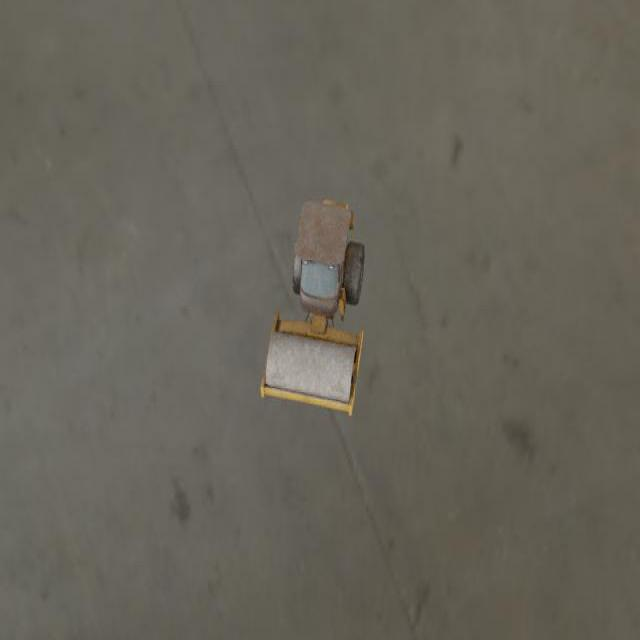Roller: (260, 199, 365, 416)
